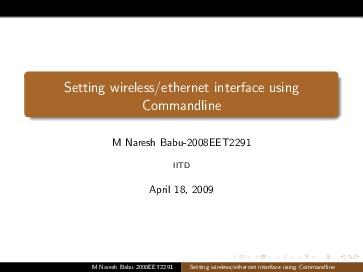subtitle: (112, 132, 258, 204), (85, 257, 340, 272)
title: (57, 75, 311, 120)
